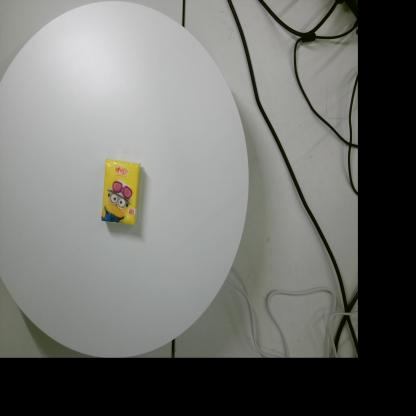Tissue: (101, 158, 141, 226)
